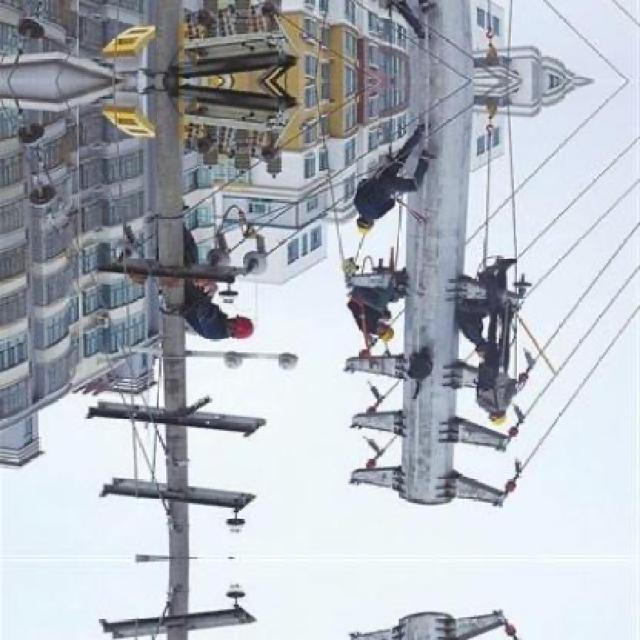con casco: (346, 306, 393, 360), (337, 201, 384, 243), (212, 311, 256, 349)
